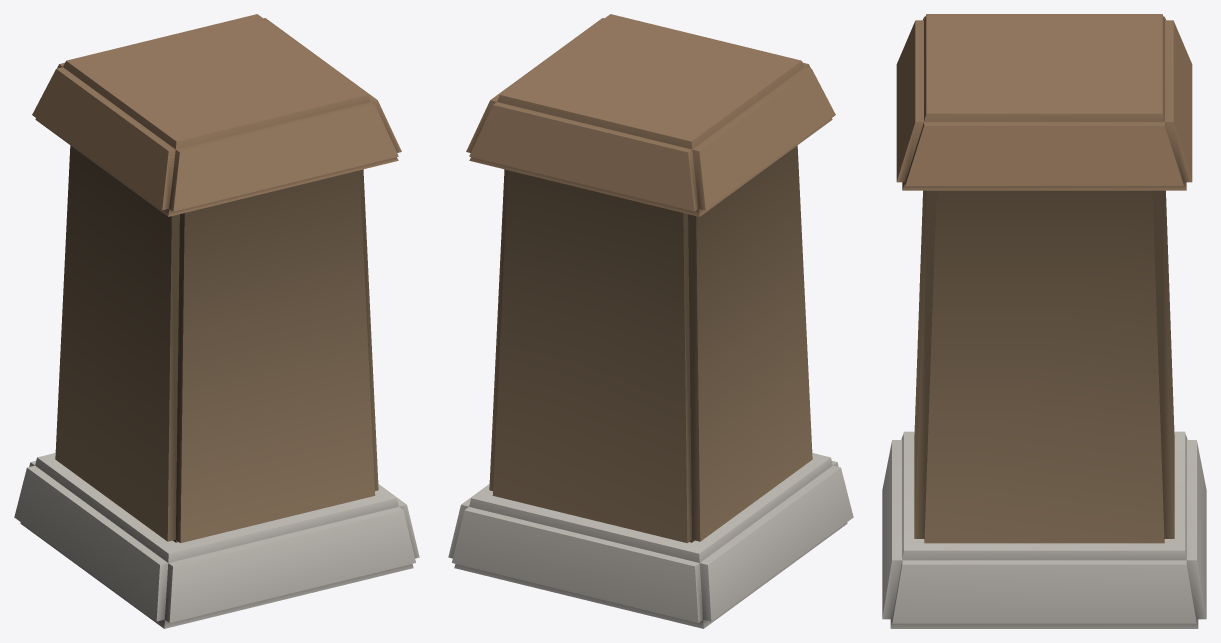
File: wall_lv0_pillar_lod0.glb
3 views of the same model, side by side, from view 1: azimuth 30°, elevation 25°; view 2: azimuth 150°, elevation 25°; view 3: azimuth 270°, elevation 25° (orthographic). The views are drawn at different scales.
Visible parts, largest first — view 1: wall_lv0_pillar; view 2: wall_lv0_pillar; view 3: wall_lv0_pillar.
Part boxes in pixels (x1,y1,x2,y2): wall_lv0_pillar: (14,14,419,628); wall_lv0_pillar: (448,14,853,628); wall_lv0_pillar: (882,14,1206,628).
Bounding box in the file's own units: 0.9703 × 1.65 × 0.9703.
